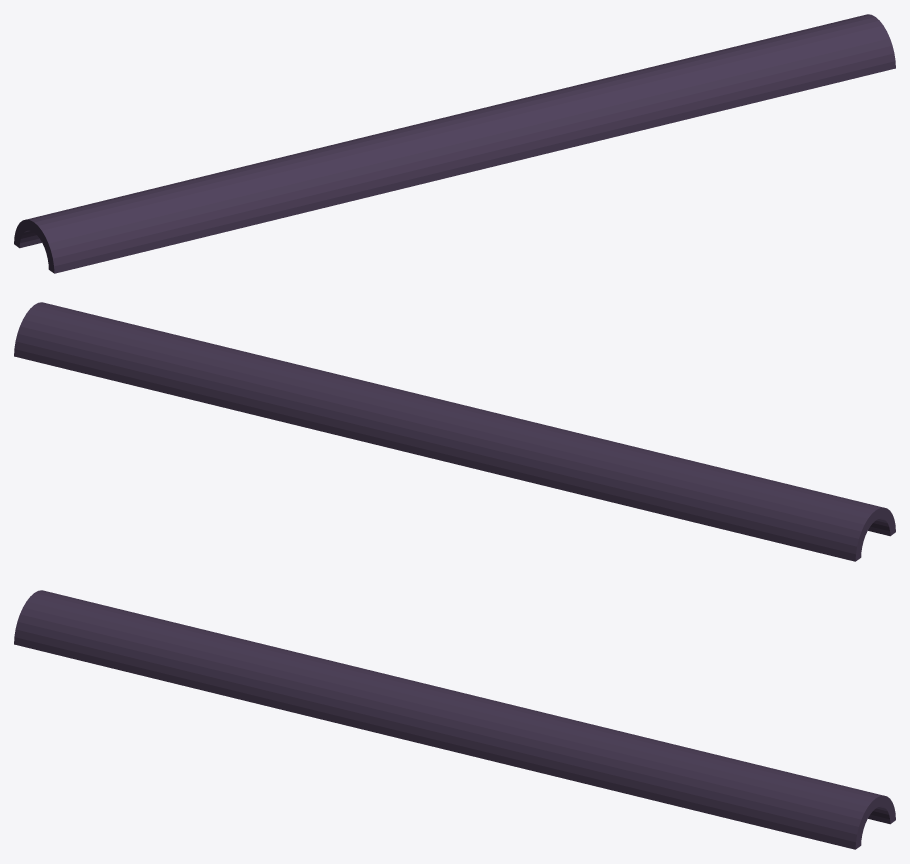
Rendered from tunnel.glb.
3 renders of one model, top to bottom at view 1: azimuth 30°, elevation 25°; view 2: azimuth 150°, elevation 25°; view 3: azimuth 330°, elevation 25°, orthographic.
Parts seen in each view (by area): view 1: Cylinder; view 2: Cylinder; view 3: Cylinder.
Part boxes in pixels (box(x1,y1,x2,y2)): Cylinder: box(14, 14, 895, 273); Cylinder: box(14, 302, 895, 561); Cylinder: box(14, 590, 895, 849).
Bounding box in the file's own units: 24.04 × 0.9992 × 2.
1 material, 1 textured.
